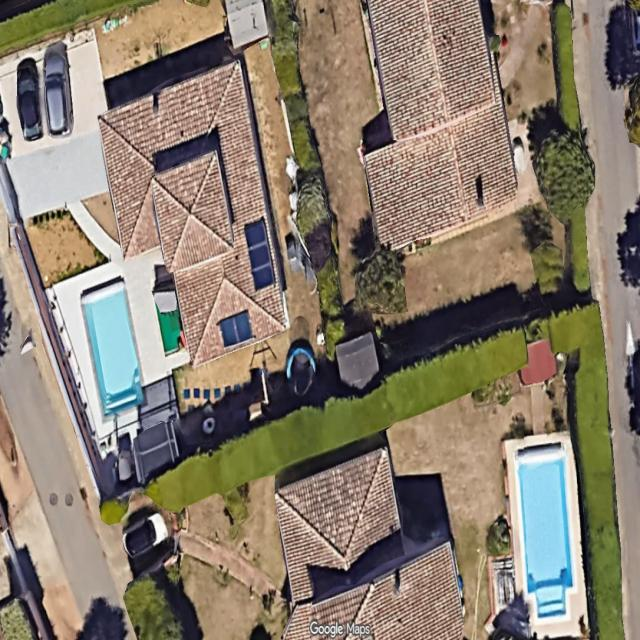maison: (90, 56, 297, 375), (336, 0, 525, 252), (275, 445, 464, 639)
